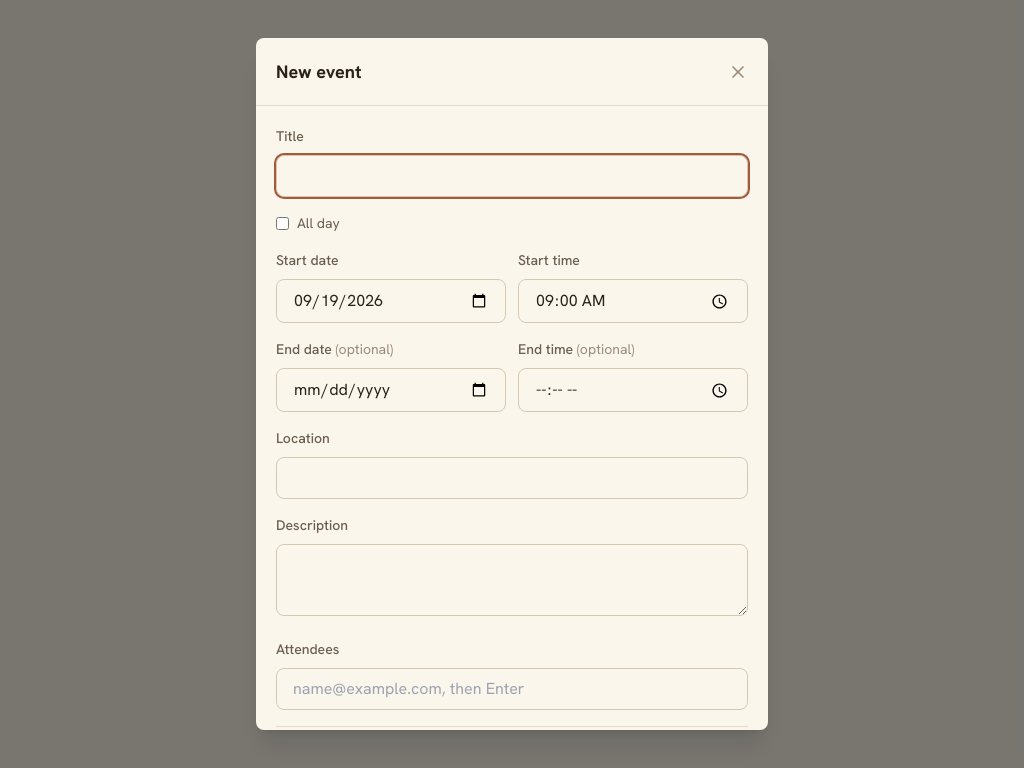
Test: EventForm › rejects an end date before the start date
Type "Bad range" into the field labelled "Title" at (512, 176), box [276,155,748,197]
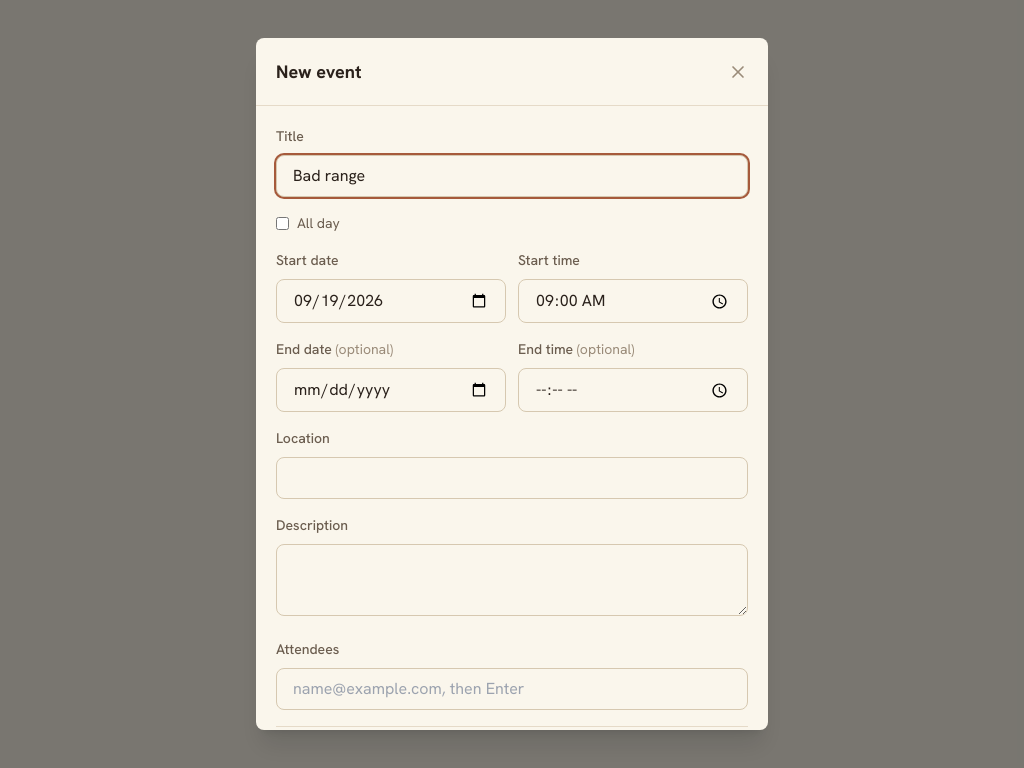
Type "2026-09-10" into the date field labelled "Start date" at (391, 301), box [276,279,506,323]
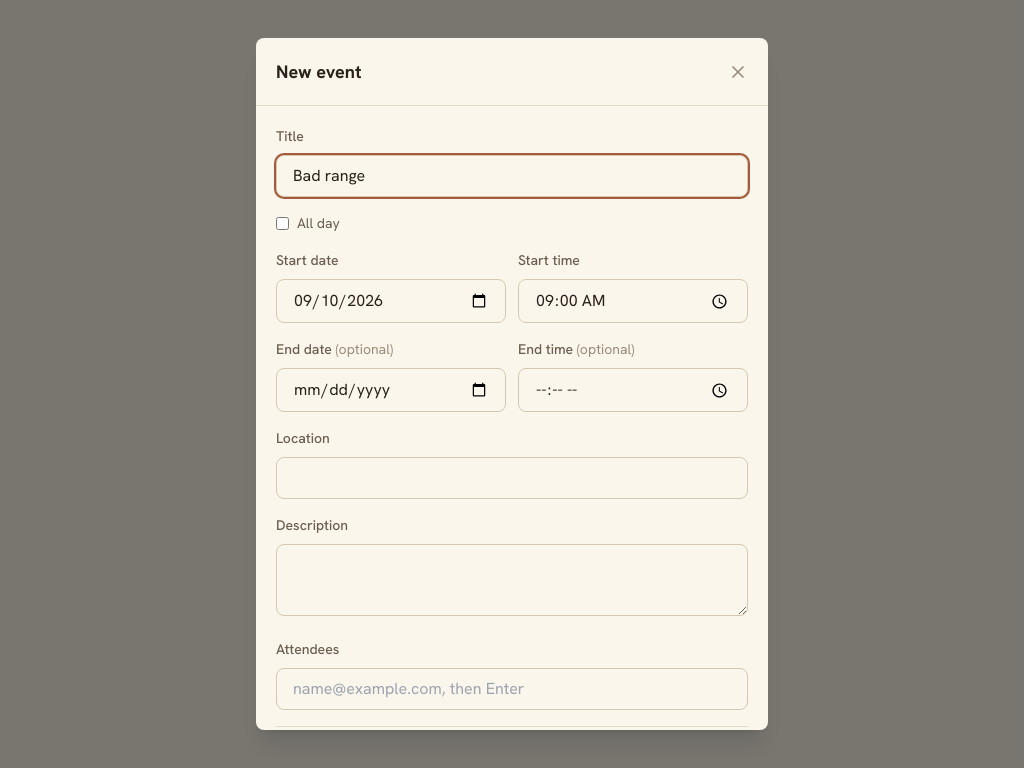
Type "2026-09-01" into the date field labelled "End date (optional)" at (391, 390), box [276,368,506,412]
(page scrolled)
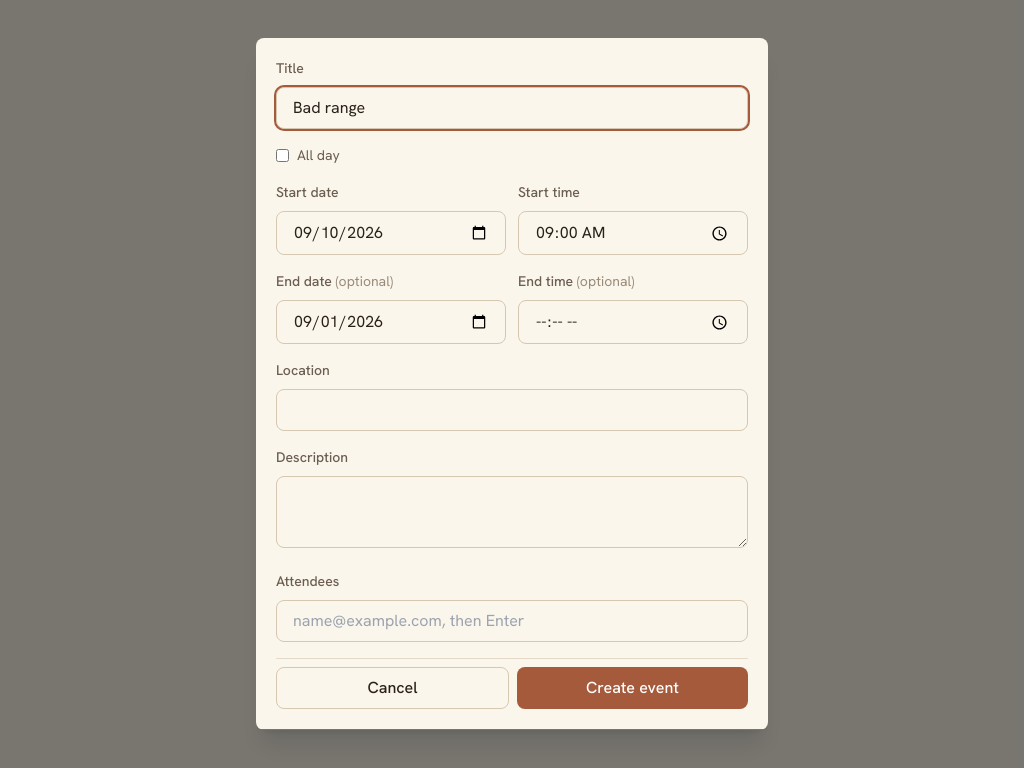
Submit the form named "create event", box [256,38,768,729]
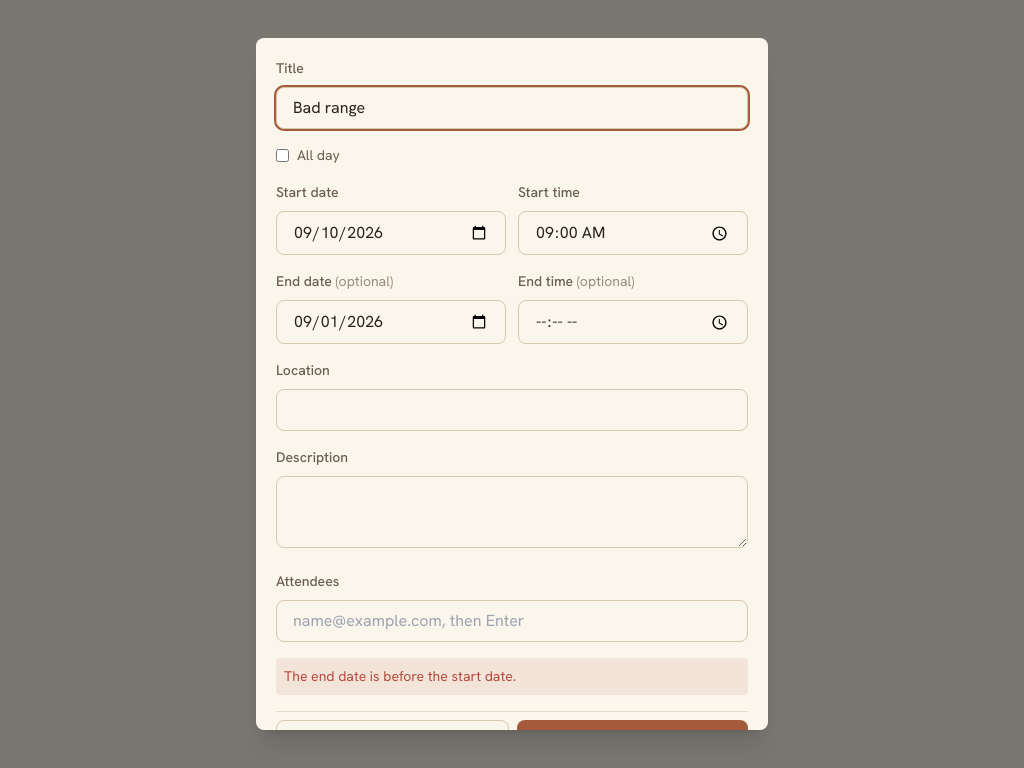
Expected: the text "The end date is before the start date." is shown, [276,658,748,695]
